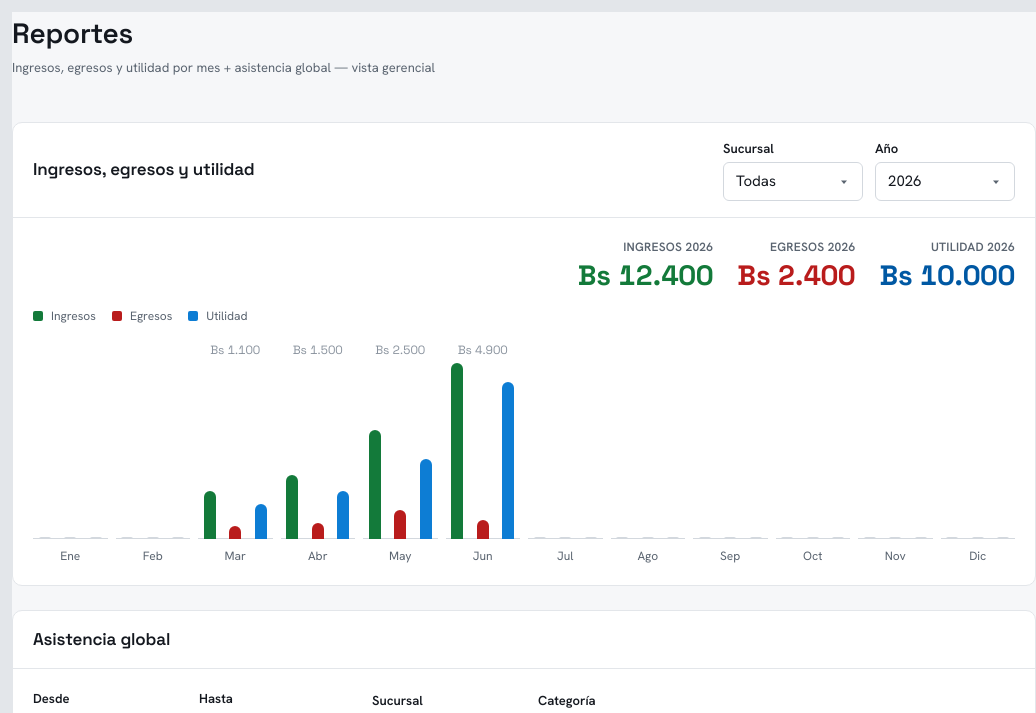
Test: Reportes › recarga las finanzas al filtrar por sucursal
The width and height of the screenshot is (1036, 713).
# El selector de sucursal del gráfico financiero (el primero de la página).
Select "Centro" in the dropdown labelled "Sucursal" below "Año" at x=793, y=182, box [723,162,863,201]
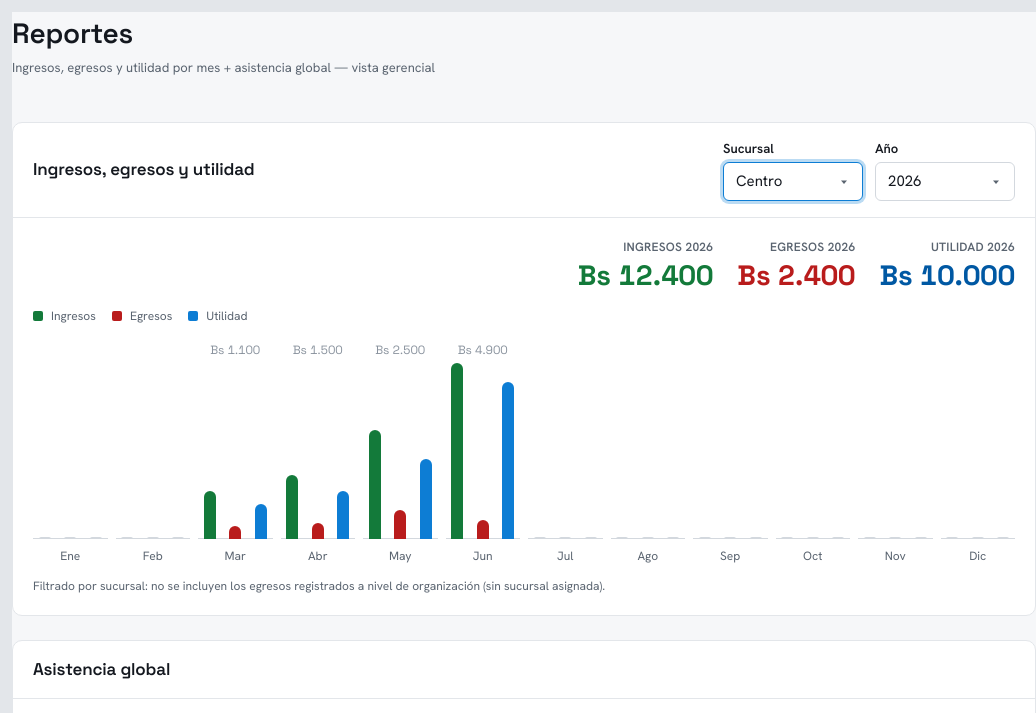
Check: the text "no se incluyen los egresos registrados a nivel de" is shown, box [33,578,605,594]
